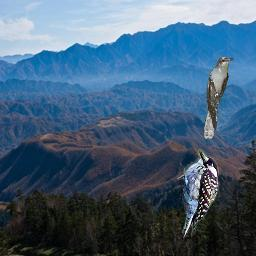Cuckoo: (203, 56, 234, 139)
Woodpecker: (167, 146, 225, 247)
